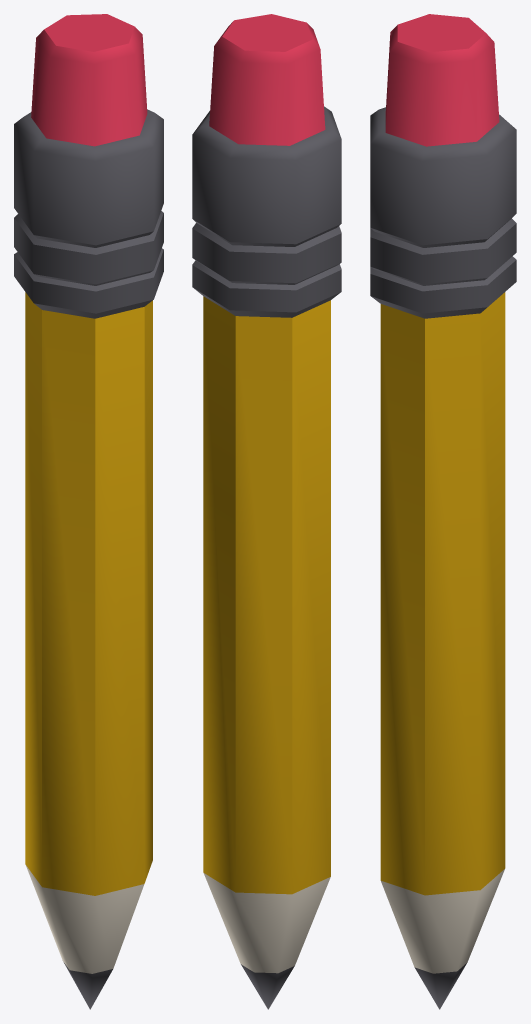
File: Pen.fbx
3 renders of one model, left to right at view 1: azimuth 30°, elevation 25°; view 2: azimuth 150°, elevation 25°; view 3: azimuth 270°, elevation 25°, orthographic.
Parts seen in each view (by area): view 1: Pen; view 2: Pen; view 3: Pen.
Boxes of the visible parts, left/top/right/bottom form: Pen: left=14, top=14, right=163, bottom=1009; Pen: left=192, top=14, right=341, bottom=1009; Pen: left=370, top=14, right=516, bottom=1009.
Bounding box in the file's own units: 153 × 1100 × 149.
